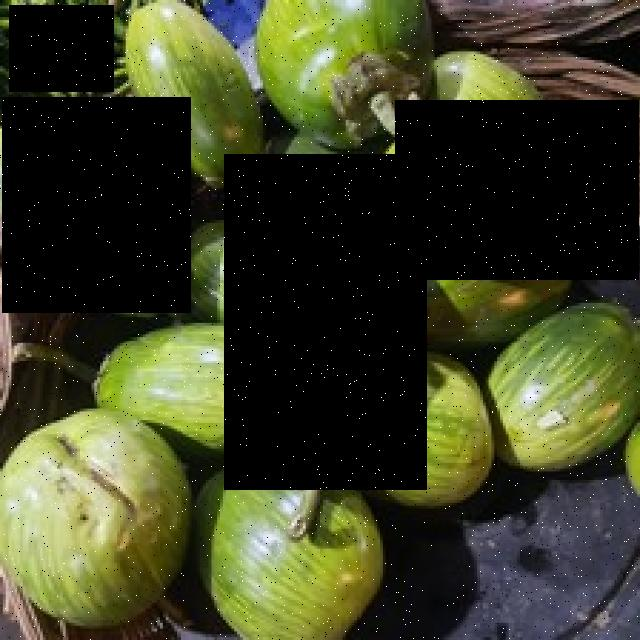Chili_Pepper: (10, 5, 115, 92)
Green_Brinjal: (225, 154, 428, 490), (395, 100, 640, 280), (2, 98, 192, 314)
